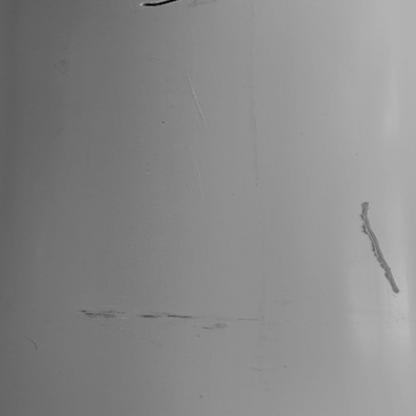fengxi: (138, 1, 182, 10)
sunshang: (77, 304, 266, 331), (355, 200, 406, 293)
